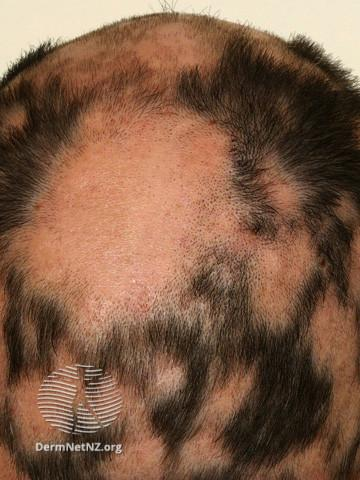Alopecia Areata: (12, 23, 322, 334), (0, 352, 252, 478), (312, 293, 360, 433)
